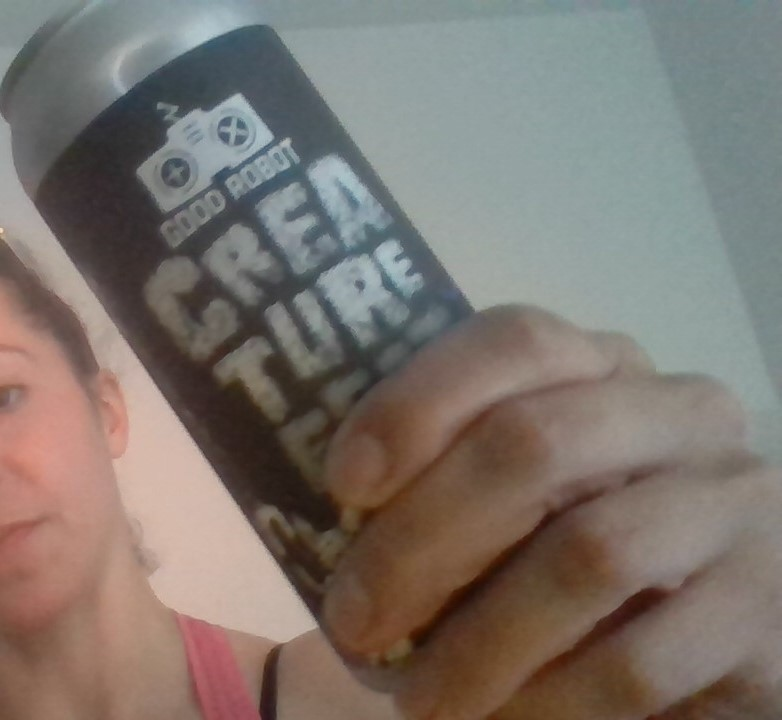Good Robot: (128, 79, 314, 209)
